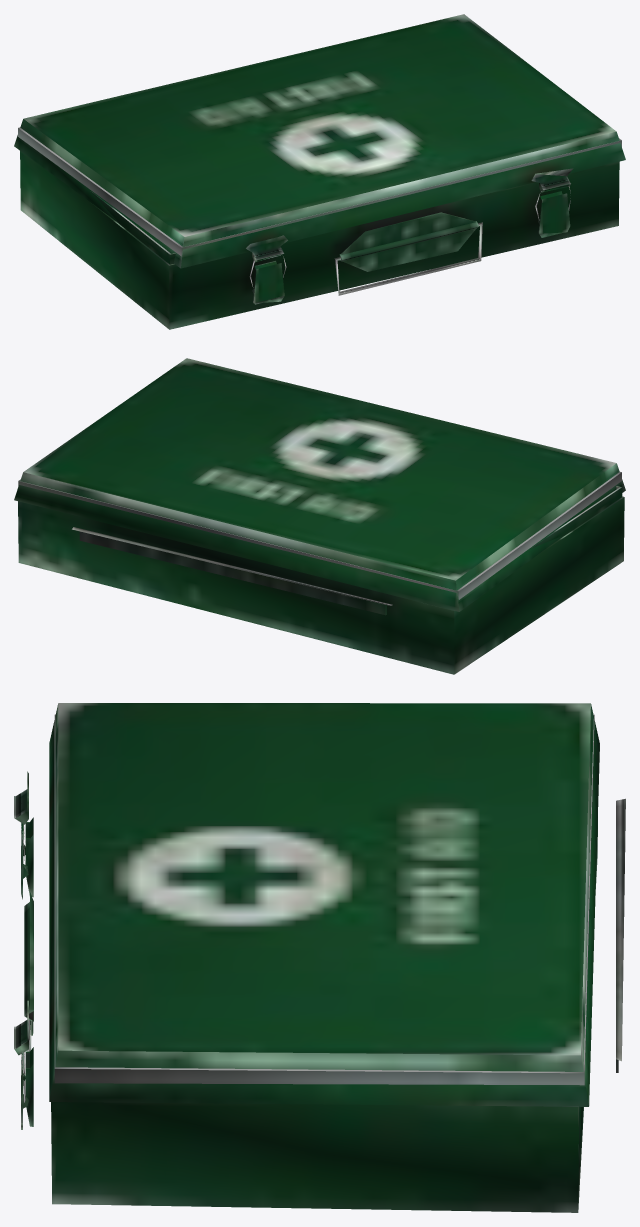
The model's file is medBox_lo.glb.
3 renders of one model, top to bottom at view 1: azimuth 30°, elevation 25°; view 2: azimuth 150°, elevation 25°; view 3: azimuth 270°, elevation 25°, orthographic. The views are drawn at different scales.
Visible parts, largest first — view 1: medical_box_lid, medical_box, medical_box_latch, medical_box_handle; view 2: medical_box_lid, medical_box; view 3: medical_box_lid, medical_box.
Boxes of the visible parts, x1,y1,x2,y2 form: medical_box_lid: (14, 14, 625, 268); medical_box: (20, 151, 619, 329); medical_box_latch: (252, 193, 570, 303); medical_box_handle: (334, 222, 482, 295); medical_box_lid: (14, 358, 625, 611); medical_box: (18, 486, 624, 674); medical_box_lid: (14, 703, 599, 1106); medical_box: (24, 798, 625, 1212).
Bounding box in the file's own units: 0.497 × 0.0968 × 0.3501.
1 material, 1 textured.
